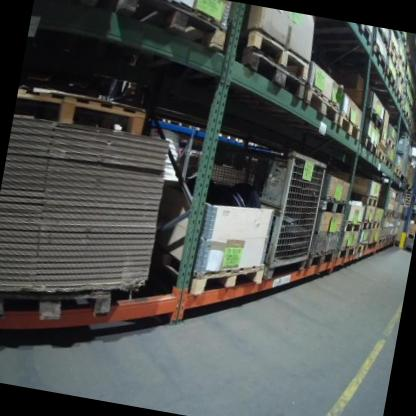pallet: (0, 263, 119, 344), (145, 242, 267, 304), (110, 0, 233, 55), (14, 89, 147, 138), (230, 23, 318, 80), (226, 47, 309, 103), (295, 83, 343, 130), (318, 18, 377, 47), (339, 103, 386, 132), (334, 110, 366, 144), (305, 242, 337, 276), (313, 192, 348, 218), (35, 0, 105, 13), (367, 38, 389, 72), (348, 190, 381, 209), (350, 135, 378, 156), (335, 241, 358, 264), (394, 46, 412, 70), (381, 63, 397, 88), (389, 85, 405, 110), (341, 218, 362, 237), (386, 37, 402, 58), (391, 68, 407, 89), (385, 51, 401, 68), (374, 145, 386, 166), (355, 238, 366, 260), (384, 136, 397, 151), (360, 219, 373, 233), (392, 164, 404, 178), (383, 157, 393, 171), (370, 220, 381, 232), (377, 235, 388, 247), (365, 239, 375, 252), (382, 208, 393, 219)
stillage: (163, 129, 331, 290), (385, 127, 413, 183)
